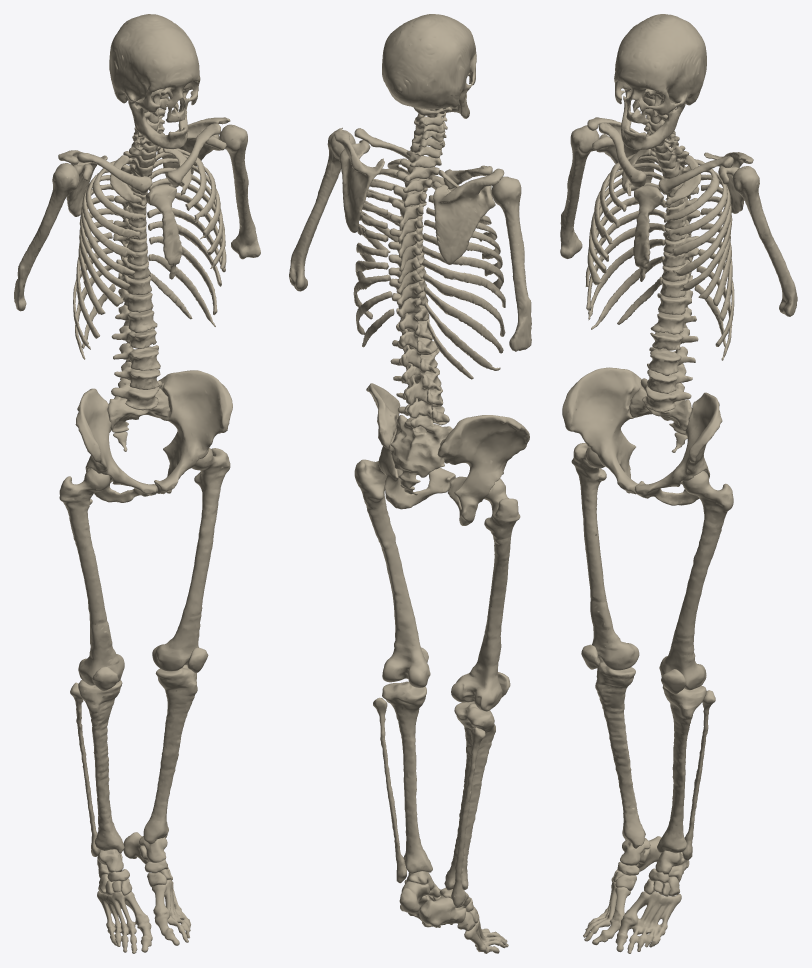
The model's file is vhf_denver_ct_adult_female.skeletal.LOD2.glb.
3 views of the same model, side by side, from view 1: azimuth 30°, elevation 25°; view 2: azimuth 150°, elevation 25°; view 3: azimuth 330°, elevation 25° (orthographic). The views are drawn at different scales.
Visible parts, largest first — view 1: VHF_DENVER_CT.ADULT.FEMALE.SKELETAL.SKULL_CRANIUM_AND_MANDIB, VHF_DENVER_CT.ADULT.FEMALE.SKELETAL.HIP_BONE_OS_COXAE.L, VHF_DENVER_CT.ADULT.FEMALE.SKELETAL.FEMUR.R, VHF_DENVER_CT.ADULT.FEMALE.SKELETAL.FEMUR.L, VHF_DENVER_CT.ADULT.FEMALE.SKELETAL.TIBIA.L, VHF_DENVER_CT.ADULT.FEMALE.SKELETAL.METATARSALS_AND_PHALANGE (×2), VHF_DENVER_CT.ADULT.FEMALE.SKELETAL.HIP_BONE_OS_COXAE.R, VHF_DENVER_CT.ADULT.FEMALE.SKELETAL.TIBIA.R, VHF_DENVER_CT.ADULT.FEMALE.SKELETAL.HUMERUS.L, VHF_DENVER_CT.ADULT.FEMALE.SKELETAL.HUMERUS.R, VHF_DENVER_CT.ADULT.FEMALE.SKELETAL.STERNUM, VHF_DENVER_CT.ADULT.FEMALE.SKELETAL.VERTEBRA_L3 (+20 smaller); view 2: VHF_DENVER_CT.ADULT.FEMALE.SKELETAL.SKULL_CRANIUM_AND_MANDIB, VHF_DENVER_CT.ADULT.FEMALE.SKELETAL.HIP_BONE_OS_COXAE.R, VHF_DENVER_CT.ADULT.FEMALE.SKELETAL.FEMUR.L, VHF_DENVER_CT.ADULT.FEMALE.SKELETAL.FEMUR.R, VHF_DENVER_CT.ADULT.FEMALE.SKELETAL.SCAPULA.R, VHF_DENVER_CT.ADULT.FEMALE.SKELETAL.TIBIA.L, VHF_DENVER_CT.ADULT.FEMALE.SKELETAL.HIP_BONE_OS_COXAE.L, VHF_DENVER_CT.ADULT.FEMALE.SKELETAL.TIBIA.R, VHF_DENVER_CT.ADULT.FEMALE.SKELETAL.HUMERUS.R, VHF_DENVER_CT.ADULT.FEMALE.SKELETAL.SACRUM, VHF_DENVER_CT.ADULT.FEMALE.SKELETAL.SCAPULA.L, VHF_DENVER_CT.ADULT.FEMALE.SKELETAL.HUMERUS.L (+16 smaller); view 3: VHF_DENVER_CT.ADULT.FEMALE.SKELETAL.SKULL_CRANIUM_AND_MANDIB, VHF_DENVER_CT.ADULT.FEMALE.SKELETAL.HIP_BONE_OS_COXAE.R, VHF_DENVER_CT.ADULT.FEMALE.SKELETAL.FEMUR.L, VHF_DENVER_CT.ADULT.FEMALE.SKELETAL.FEMUR.R, VHF_DENVER_CT.ADULT.FEMALE.SKELETAL.TIBIA.R, VHF_DENVER_CT.ADULT.FEMALE.SKELETAL.METATARSALS_AND_PHALANGE (×2), VHF_DENVER_CT.ADULT.FEMALE.SKELETAL.HIP_BONE_OS_COXAE.L, VHF_DENVER_CT.ADULT.FEMALE.SKELETAL.TIBIA.L, VHF_DENVER_CT.ADULT.FEMALE.SKELETAL.HUMERUS.L, VHF_DENVER_CT.ADULT.FEMALE.SKELETAL.HUMERUS.R, VHF_DENVER_CT.ADULT.FEMALE.SKELETAL.VERTEBRA_L3, VHF_DENVER_CT.ADULT.FEMALE.SKELETAL.STERNUM (+20 smaller).
Boxes of the visible parts, x1,y1,x2,y2 form: VHF_DENVER_CT.ADULT.FEMALE.SKELETAL.SKULL_CRANIUM_AND_MANDIB: (109,14,200,149); VHF_DENVER_CT.ADULT.FEMALE.SKELETAL.HIP_BONE_OS_COXAE.L: (154,370,232,494); VHF_DENVER_CT.ADULT.FEMALE.SKELETAL.FEMUR.R: (59,468,124,685); VHF_DENVER_CT.ADULT.FEMALE.SKELETAL.FEMUR.L: (152,447,230,671); VHF_DENVER_CT.ADULT.FEMALE.SKELETAL.TIBIA.L: (143,665,197,844); VHF_DENVER_CT.ADULT.FEMALE.SKELETAL.METATARSALS_AND_PHALANGE (×2): (97,879,190,953); VHF_DENVER_CT.ADULT.FEMALE.SKELETAL.HIP_BONE_OS_COXAE.R: (75,388,157,502); VHF_DENVER_CT.ADULT.FEMALE.SKELETAL.TIBIA.R: (78,680,124,853); VHF_DENVER_CT.ADULT.FEMALE.SKELETAL.HUMERUS.L: (219,124,260,259); VHF_DENVER_CT.ADULT.FEMALE.SKELETAL.HUMERUS.R: (14,163,79,311); VHF_DENVER_CT.ADULT.FEMALE.SKELETAL.STERNUM: (145,184,182,279); VHF_DENVER_CT.ADULT.FEMALE.SKELETAL.VERTEBRA_L3: (111,325,160,370); VHF_DENVER_CT.ADULT.FEMALE.SKELETAL.SKULL_CRANIUM_AND_MANDIB: (382,14,476,118); VHF_DENVER_CT.ADULT.FEMALE.SKELETAL.HIP_BONE_OS_COXAE.R: (437,415,529,525); VHF_DENVER_CT.ADULT.FEMALE.SKELETAL.FEMUR.L: (354,459,430,687); VHF_DENVER_CT.ADULT.FEMALE.SKELETAL.FEMUR.R: (451,478,520,711); VHF_DENVER_CT.ADULT.FEMALE.SKELETAL.SCAPULA.R: (433,168,504,264); VHF_DENVER_CT.ADULT.FEMALE.SKELETAL.TIBIA.L: (382,681,432,873); VHF_DENVER_CT.ADULT.FEMALE.SKELETAL.HIP_BONE_OS_COXAE.L: (366,383,455,509); VHF_DENVER_CT.ADULT.FEMALE.SKELETAL.TIBIA.R: (444,701,495,890); VHF_DENVER_CT.ADULT.FEMALE.SKELETAL.HUMERUS.R: (491,176,531,351); VHF_DENVER_CT.ADULT.FEMALE.SKELETAL.SACRUM: (390,415,452,488); VHF_DENVER_CT.ADULT.FEMALE.SKELETAL.SCAPULA.L: (334,127,384,232); VHF_DENVER_CT.ADULT.FEMALE.SKELETAL.HUMERUS.L: (289,130,355,291); VHF_DENVER_CT.ADULT.FEMALE.SKELETAL.SKULL_CRANIUM_AND_MANDIB: (614,14,706,149); VHF_DENVER_CT.ADULT.FEMALE.SKELETAL.HIP_BONE_OS_COXAE.R: (562,367,643,494); VHF_DENVER_CT.ADULT.FEMALE.SKELETAL.FEMUR.L: (659,470,733,690); VHF_DENVER_CT.ADULT.FEMALE.SKELETAL.FEMUR.R: (571,443,639,670); VHF_DENVER_CT.ADULT.FEMALE.SKELETAL.TIBIA.R: (595,662,645,848); VHF_DENVER_CT.ADULT.FEMALE.SKELETAL.METATARSALS_AND_PHALANGE (×2): (583,881,681,953); VHF_DENVER_CT.ADULT.FEMALE.SKELETAL.HIP_BONE_OS_COXAE.L: (634,392,722,505); VHF_DENVER_CT.ADULT.FEMALE.SKELETAL.TIBIA.L: (657,685,706,853); VHF_DENVER_CT.ADULT.FEMALE.SKELETAL.HUMERUS.L: (732,166,797,316); VHF_DENVER_CT.ADULT.FEMALE.SKELETAL.HUMERUS.R: (560,125,599,258); VHF_DENVER_CT.ADULT.FEMALE.SKELETAL.VERTEBRA_L3: (649,327,698,375); VHF_DENVER_CT.ADULT.FEMALE.SKELETAL.STERNUM: (633,185,663,281).
Bounding box in the file's own units: 0.467 × 1.71 × 0.2195.
